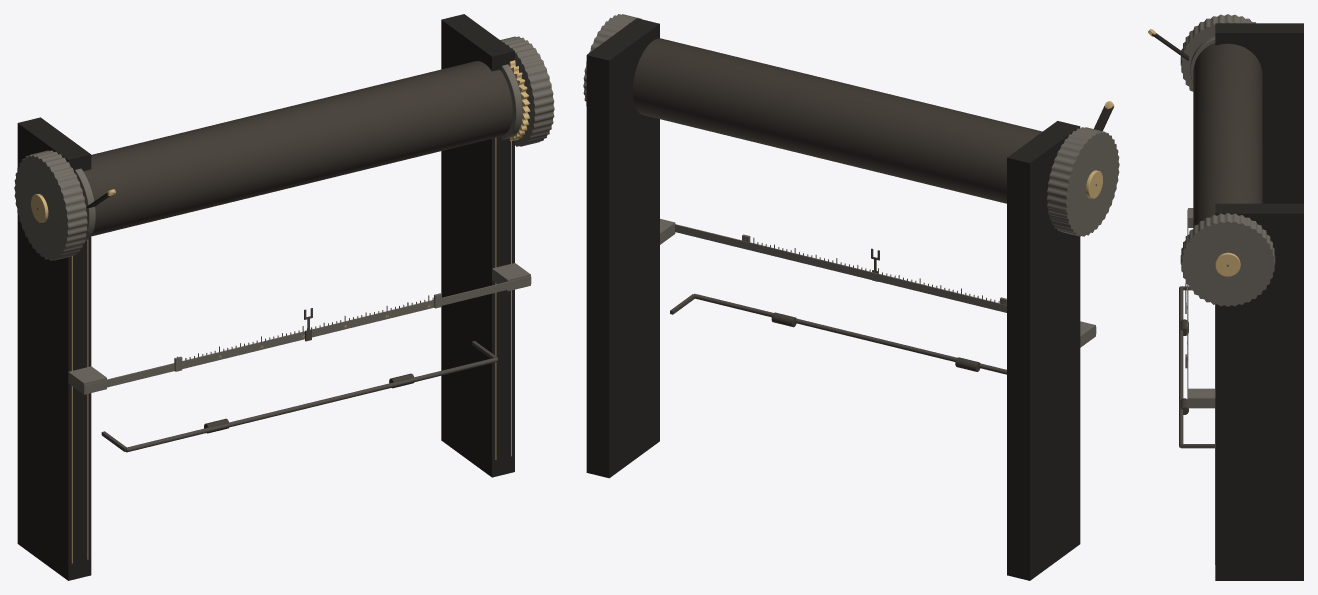
The model's file is roller.glb.
The picture shows the model from 3 angles, left to right: view 1: azimuth 30°, elevation 25°; view 2: azimuth 150°, elevation 25°; view 3: azimuth 270°, elevation 25°; orthographic projection. The views are drawn at different scales.
Visible parts, largest first — view 1: Platen, Carriage Frame L, Carriage Frame R, Platen Knob L, Alignment Scale, Platen Knob R, Bail Rod, Pinstripes, Platen Flange R; view 2: Platen, Carriage Frame R, Carriage Frame L, Platen Knob L, Alignment Scale, Bail Rod, Platen Knob R; view 3: Carriage Frame R, Platen, Carriage Frame L, Platen Knob R, Platen Knob L, Alignment Scale, Bail Rod, Knob Hub R, Platen Flange L, Pinstripes.
Part boxes in pixels (x1,y1,x2,y2): Platen: (83,61,512,236); Carriage Frame L: (17,117,91,580); Carriage Frame R: (441,14,514,477); Platen Knob L: (14,150,87,260); Alignment Scale: (68,263,531,394); Platen Knob R: (500,36,554,146); Bail Rod: (125,357,497,452); Pinstripes: (71,138,511,563); Platen Flange R: (501,64,522,139); Platen: (633,38,1042,203); Carriage Frame R: (586,18,659,478); Carriage Frame L: (1007,121,1080,580); Platen Knob L: (1046,127,1119,236); Alignment Scale: (660,219,1096,347); Bail Rod: (693,293,1006,374); Platen Knob R: (583,14,641,105); Carriage Frame R: (1215,203,1303,580); Platen: (1193,43,1262,228); Carriage Frame L: (1215,23,1303,203); Platen Knob R: (1180,213,1275,306); Platen Knob L: (1180,14,1255,91); Alignment Scale: (1187,208,1215,408); Bail Rod: (1179,286,1183,447); Knob Hub R: (1215,252,1240,276); Platen Flange L: (1190,36,1215,83); Pinstripes: (1215,305,1215,564).
Size of the model in its own units: 1.39 by 1.13 by 0.4345.
